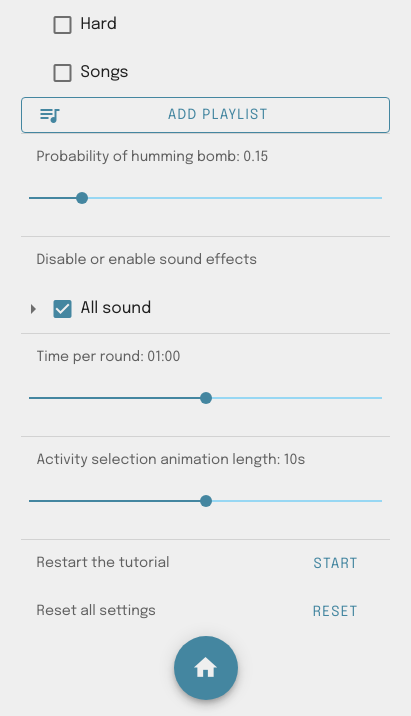
Test playlist › Goes to playlist import page
(page scrolled)
Click the link "Add playlist" at [206, 115], box [21,97,391,133]
(page scrolled)
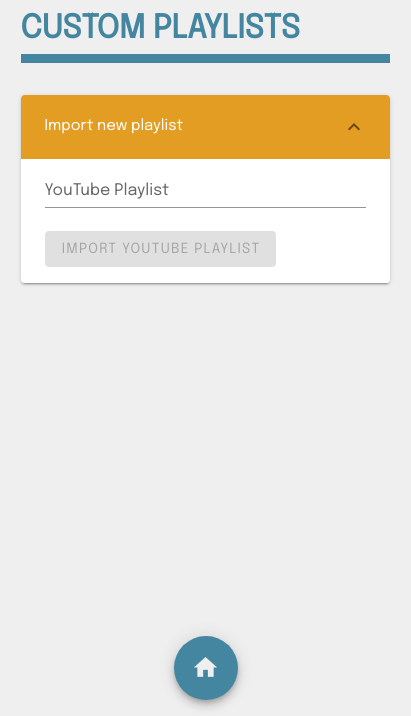
Check: the heading "Custom playlists" is shown, box [20,6,390,62]
Check: the button "Import new playlist" is shown, box [20,94,390,158]
Check: the button "Import YouTube Playlist" is shown, box [44,230,276,266]
